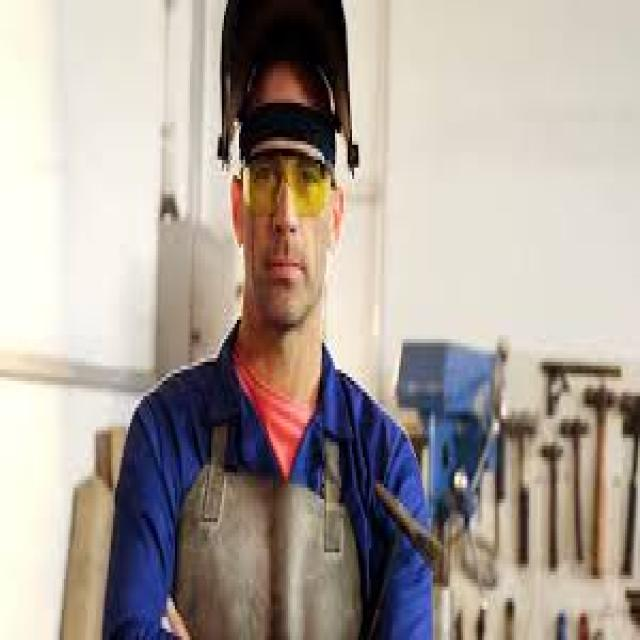helmet_lifted: (199, 0, 361, 343)
